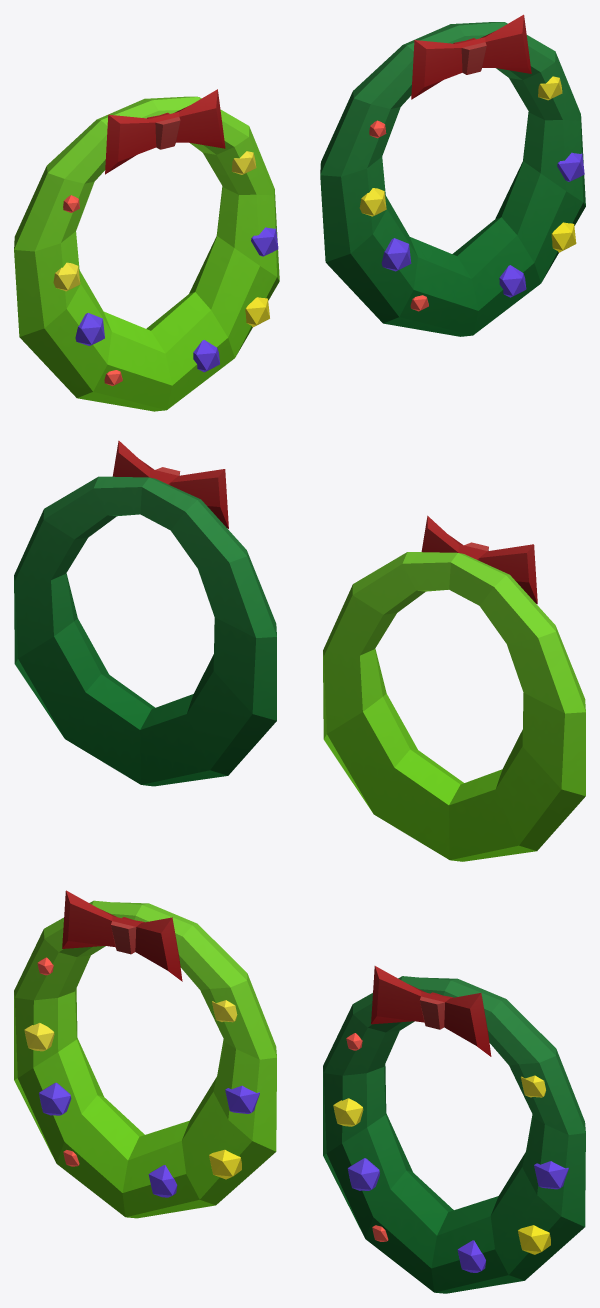
File: Decoration.glb
3 views of the same model, one above another, from view 1: azimuth 30°, elevation 25°; view 2: azimuth 150°, elevation 25°; view 3: azimuth 330°, elevation 25° (orthographic).
Visible parts, largest first — view 1: Decor2.001, Decor2; view 2: Decor2, Decor2.001; view 3: Decor2.001, Decor2.
Boxes of the visible parts, box(x1,y1,x2,y2) form: Decor2.001: box(14, 89, 279, 411); Decor2: box(320, 14, 585, 336); Decor2: box(14, 440, 276, 786); Decor2.001: box(323, 515, 585, 861); Decor2.001: box(14, 890, 276, 1218); Decor2: box(323, 966, 585, 1293).
Size of the model in its own units: 1.86 by 1 by 0.216.
1 material, 1 textured.
